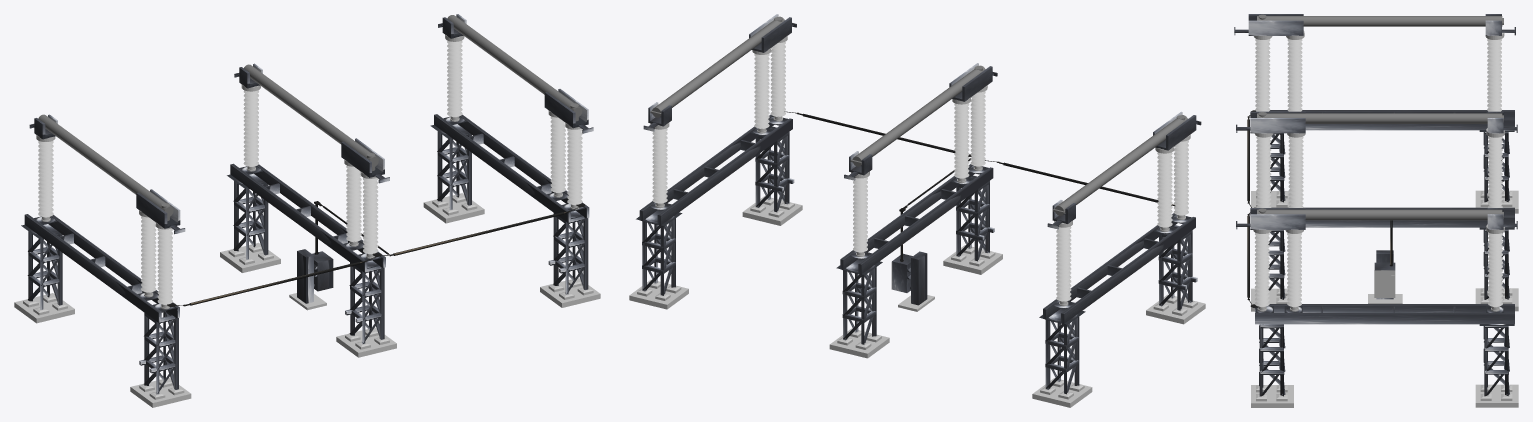
The model's file is CUCHILLA115.fbx.
The picture shows the model from 3 angles, left to right: view 1: azimuth 30°, elevation 25°; view 2: azimuth 150°, elevation 25°; view 3: azimuth 270°, elevation 25°; orthographic projection. The views are drawn at different scales.
Visible parts, largest first — view 1: Cube.094, Cylinder.002, Cylinder.001, Cylinder.003; view 2: Cube.094, Cylinder.002, Cylinder.003, Cylinder.001; view 3: Cube.094, Cylinder.001, Cylinder.002, Cylinder.003, Cubo.
Boxes of the visible parts, x1=… form: Cube.094: x1=14, y1=14, x2=600, y2=407; Cylinder.002: x1=38, y1=114, x2=173, y2=220; Cylinder.001: x1=447, y1=15, x2=582, y2=121; Cylinder.003: x1=244, y1=64, x2=378, y2=171; Cube.094: x1=629, y1=14, x2=1205, y2=407; Cylinder.002: x1=1053, y1=115, x2=1187, y2=215; Cylinder.003: x1=850, y1=65, x2=985, y2=166; Cylinder.001: x1=650, y1=16, x2=784, y2=117; Cube.094: x1=1234, y1=14, x2=1518, y2=407; Cylinder.001: x1=1257, y1=208, x2=1503, y2=220; Cylinder.002: x1=1257, y1=14, x2=1503, y2=26; Cylinder.003: x1=1257, y1=112, x2=1503, y2=123; Cubo: x1=1374, y1=270, x2=1395, y2=297.
Size of the model in its own units: 700 by 289 by 396.
